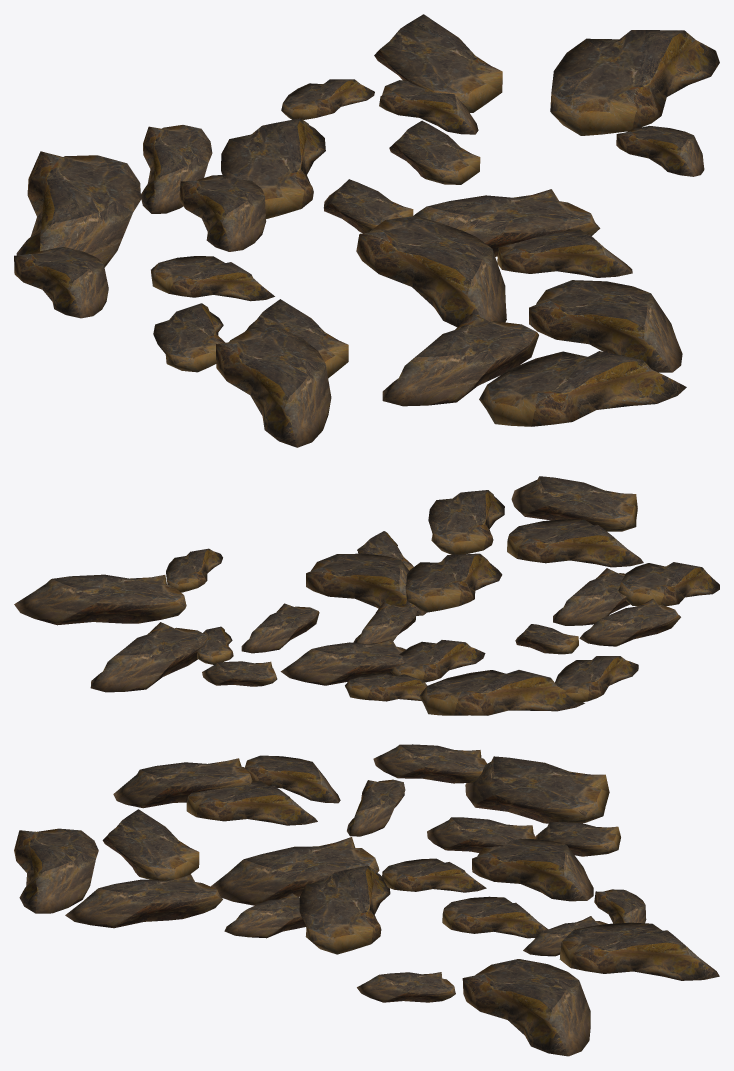
Rendered from Scan_Pebbles_B.fbx.
3 renders of one model, top to bottom at view 1: azimuth 30°, elevation 25°; view 2: azimuth 150°, elevation 25°; view 3: azimuth 270°, elevation 25°, orthographic. The views are drawn at different scales.
Parts seen in each view (by area): view 1: Scan_Pebbles_B_LOD0; view 2: Scan_Pebbles_B_LOD0; view 3: Scan_Pebbles_B_LOD0.
Boxes of the visible parts, x1,y1,x2,y2 form: Scan_Pebbles_B_LOD0: (14,14,719,447); Scan_Pebbles_B_LOD0: (14,476,719,715); Scan_Pebbles_B_LOD0: (14,744,719,1056).
Size of what is drawn, in the model's own units: 1.66 by 0.1174 by 1.69.
